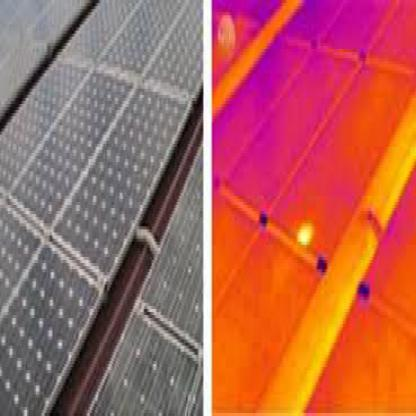Defects: (298, 220, 312, 245)
